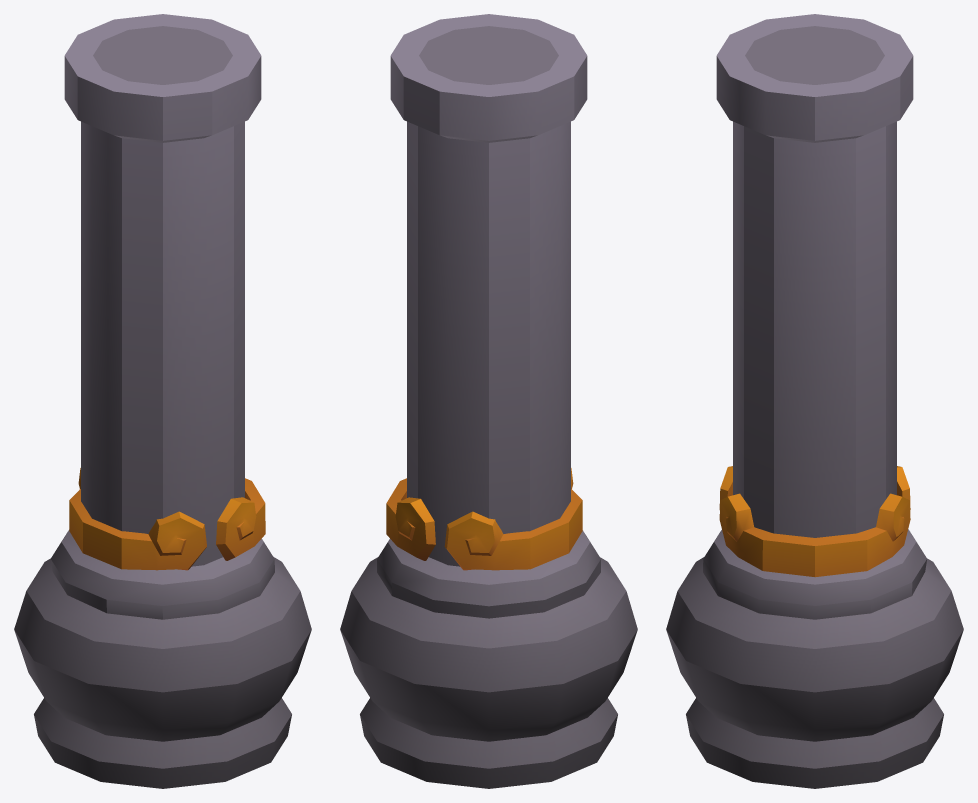
Rendered from pillar_2_long.glb.
3 renders of one model, left to right at view 1: azimuth 30°, elevation 25°; view 2: azimuth 150°, elevation 25°; view 3: azimuth 270°, elevation 25°, orthographic.
Visible parts, largest first — view 1: pillar_2_long; view 2: pillar_2_long; view 3: pillar_2_long.
Part boxes in pixels (bbox=[...]): pillar_2_long: bbox=[14, 14, 311, 788]; pillar_2_long: bbox=[340, 14, 637, 788]; pillar_2_long: bbox=[666, 14, 963, 788].
Size of the model in its own units: 1.11 by 2.79 by 1.11.
Materials: 1 (1 with a texture image).
